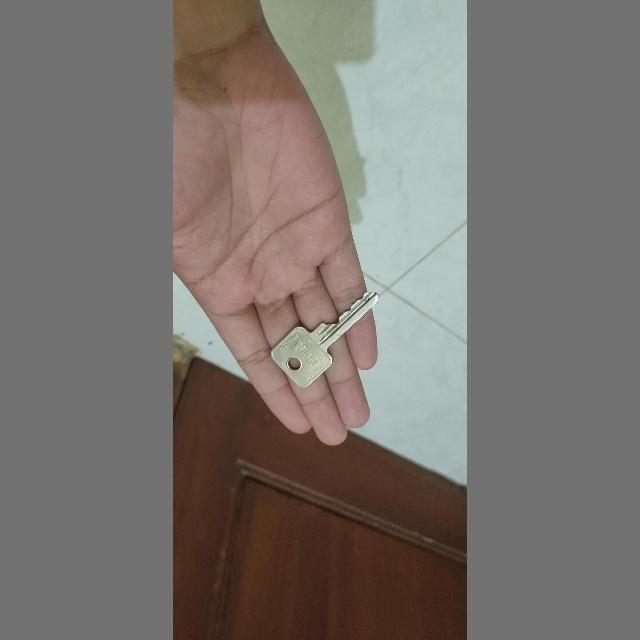Keys: (264, 282, 388, 394)
